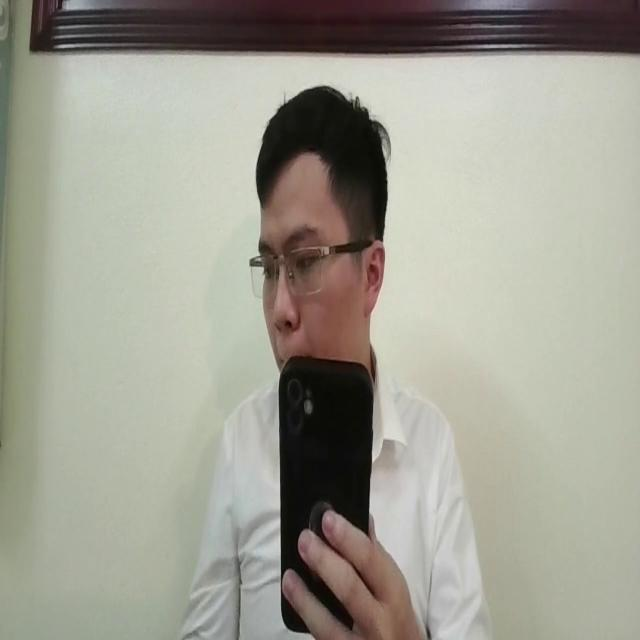phone: (277, 348, 374, 635)
student: (173, 82, 490, 640)
